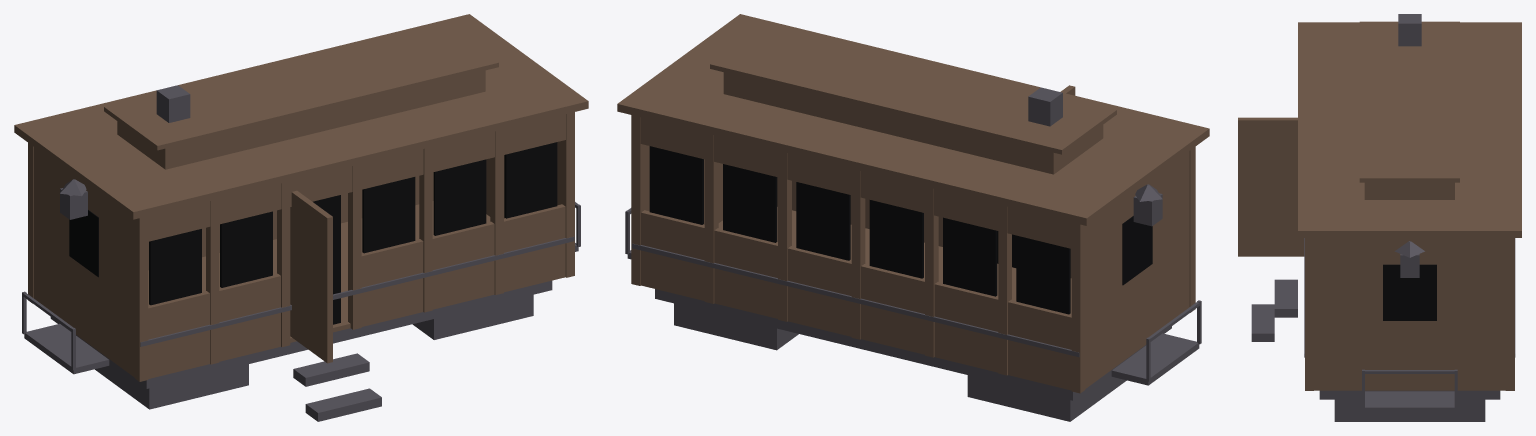
File: set_car.glb
The picture shows the model from 3 angles, left to right: view 1: azimuth 30°, elevation 25°; view 2: azimuth 150°, elevation 25°; view 3: azimuth 270°, elevation 25°; orthographic projection. The views are drawn at different scales.
Parts seen in each view (by area): view 1: set_car; view 2: set_car; view 3: set_car.
Part boxes in pixels (x1,y1,x2,y2): set_car: (14,14,588,421); set_car: (617,14,1209,421); set_car: (1238,14,1521,421).
Bounding box in the file's own units: 7.14 × 3.8 × 3.67.
